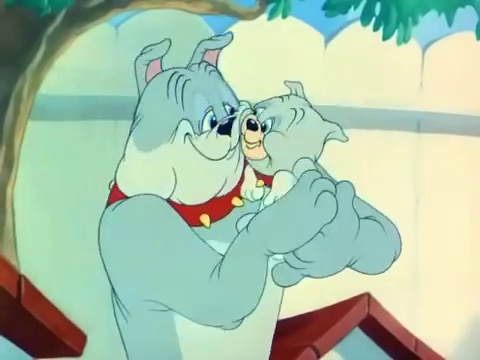spike: (104, 27, 248, 229)
